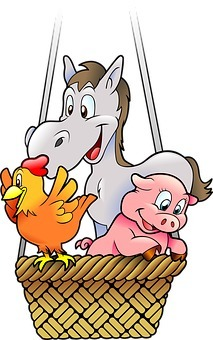bird: (1, 155, 96, 273)
horse: (21, 52, 212, 239)
